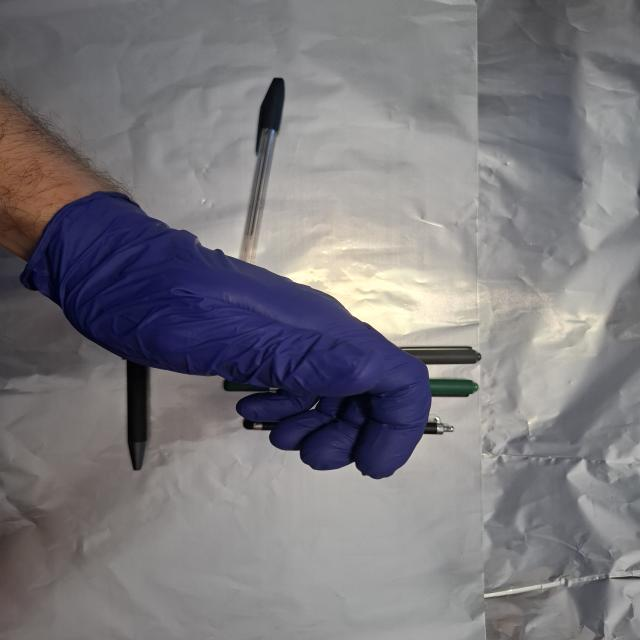glove_on: (26, 190, 437, 480)
